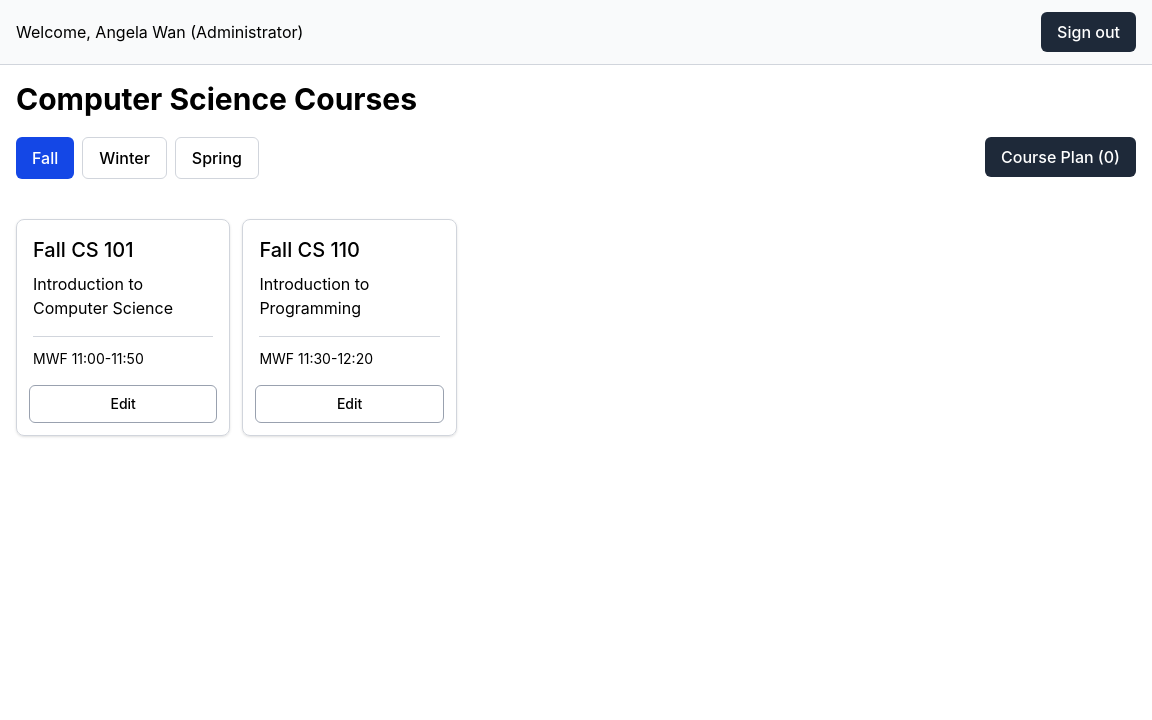
Test: course form › shows helpful messages when fields are invalid
Click the link with aria-label "Edit Fall CS 101".
click(123, 404)  # box [29, 385, 217, 423]
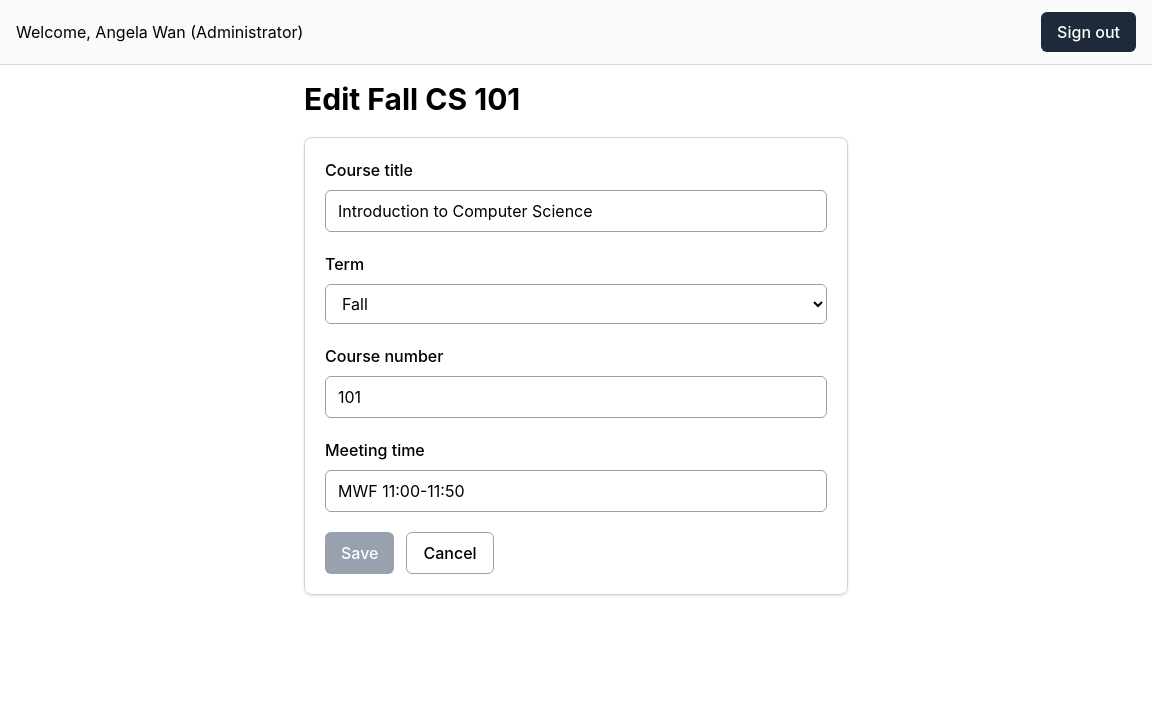
Replace the text in the field labelled "Course title" with "X" at (576, 211), box [325, 190, 827, 232]
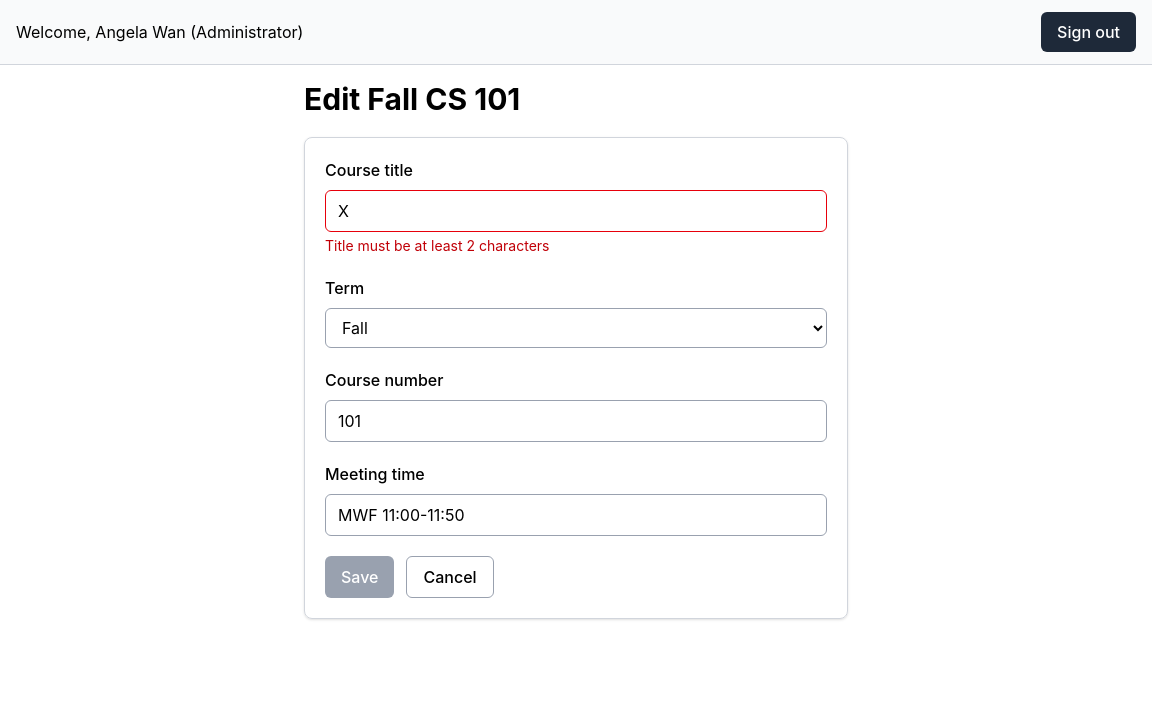
expect the text "Title must be at least 2 characters" is shown: met, box [325, 237, 550, 254]
Replace the text in the field labelled "Course number" with "CS 101" at (576, 421), box [325, 400, 827, 442]
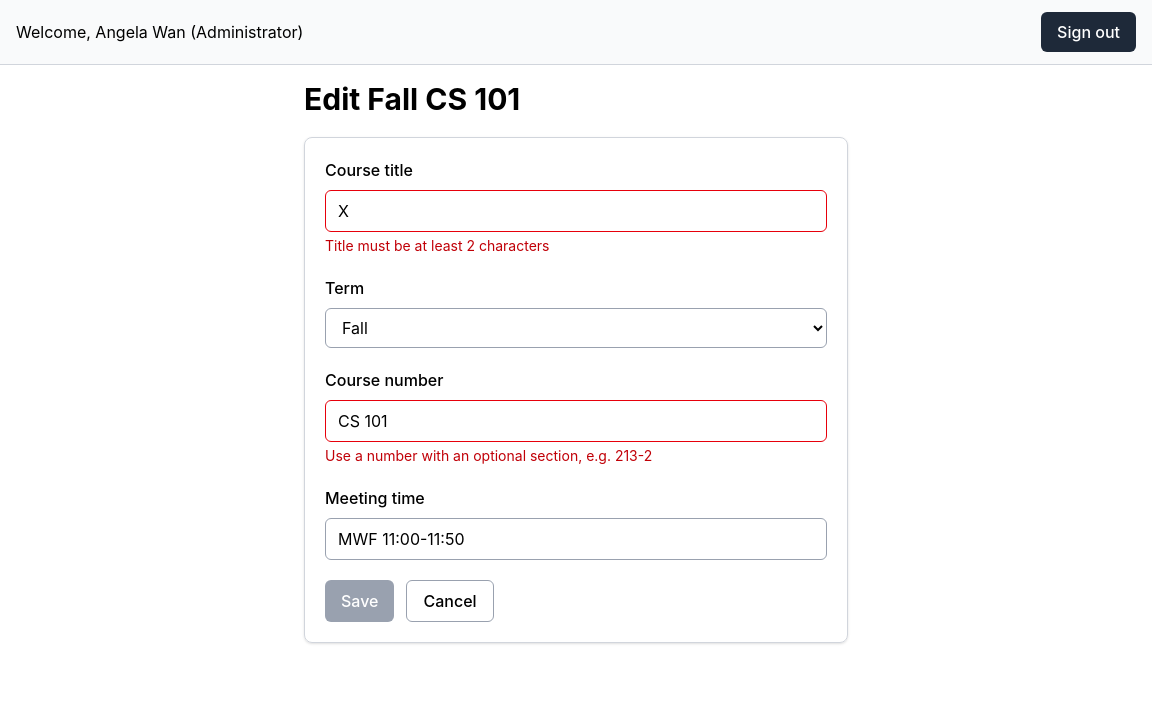
expect the text "Use a number with an optional section, e.g. 213-2" is shown: met, box [325, 447, 652, 464]
Replace the text in the field labelled "Meeting time" with "MWF 12:00-11:00" at (576, 539), box [325, 518, 827, 560]
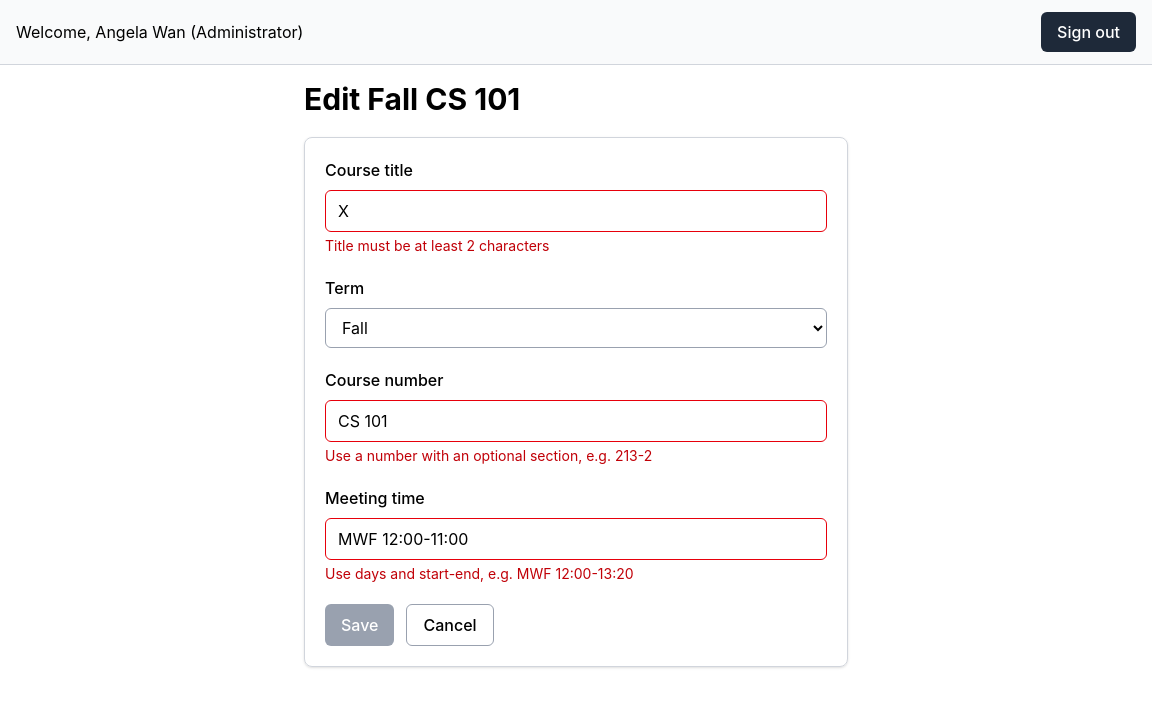
expect the text "Use days and start-end, e.g. MWF 12:00-13:20" is shown: met, box [325, 565, 634, 582]
